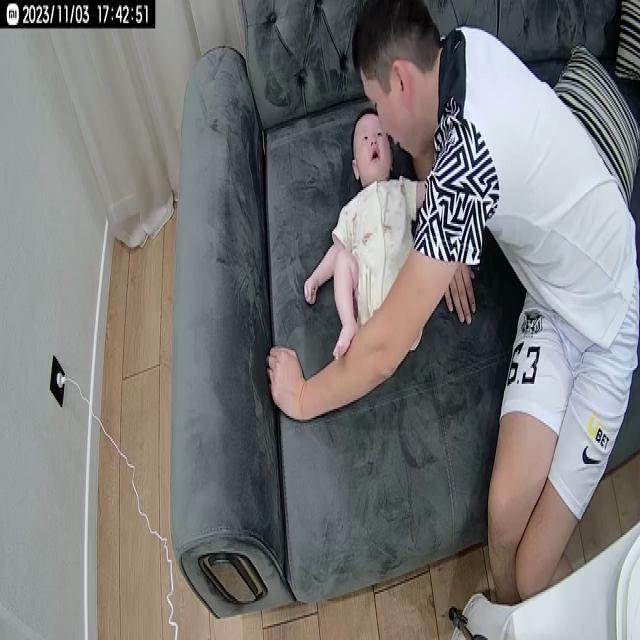baby: (302, 106, 430, 350)
